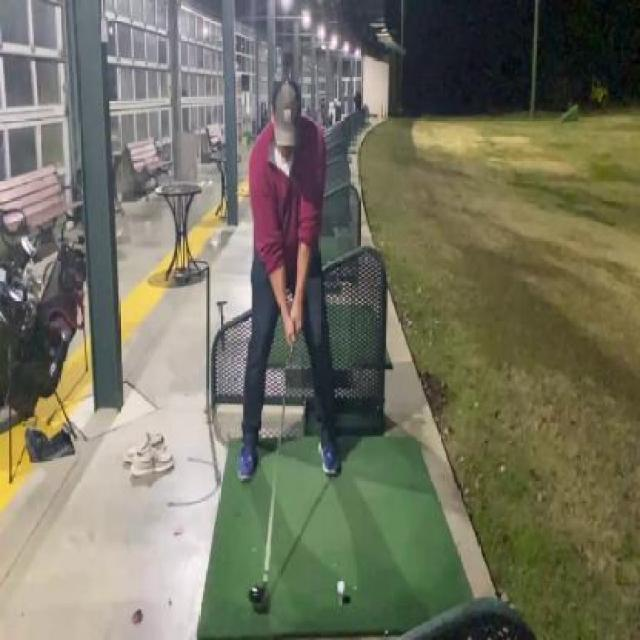club head: (247, 564, 270, 616)
